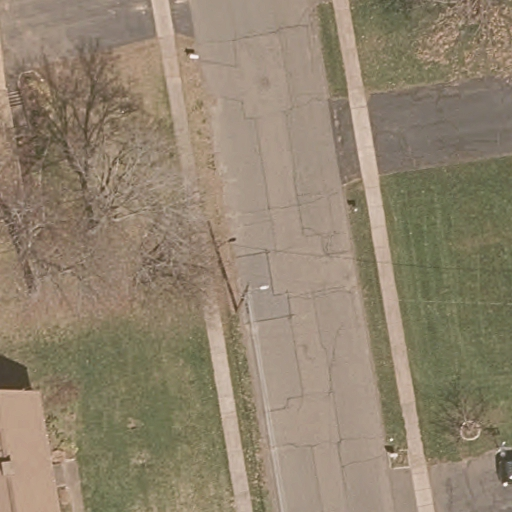DT: (234, 281, 269, 314)
